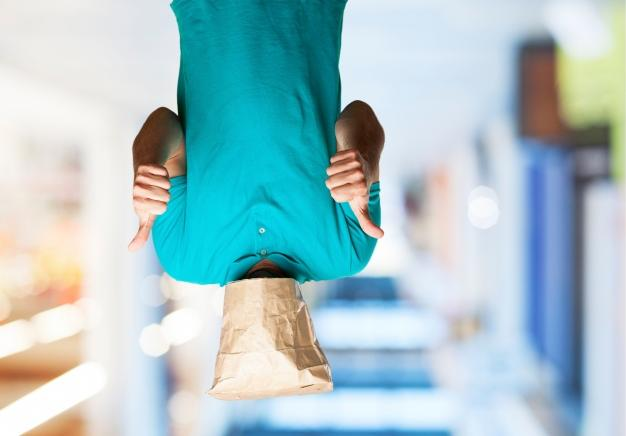thumbsdown: (324, 149, 384, 239), (127, 163, 171, 252)
